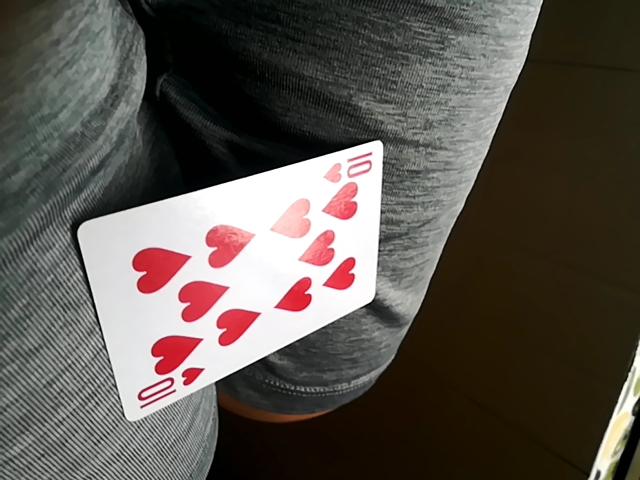hx 10: (84, 144, 380, 415)
